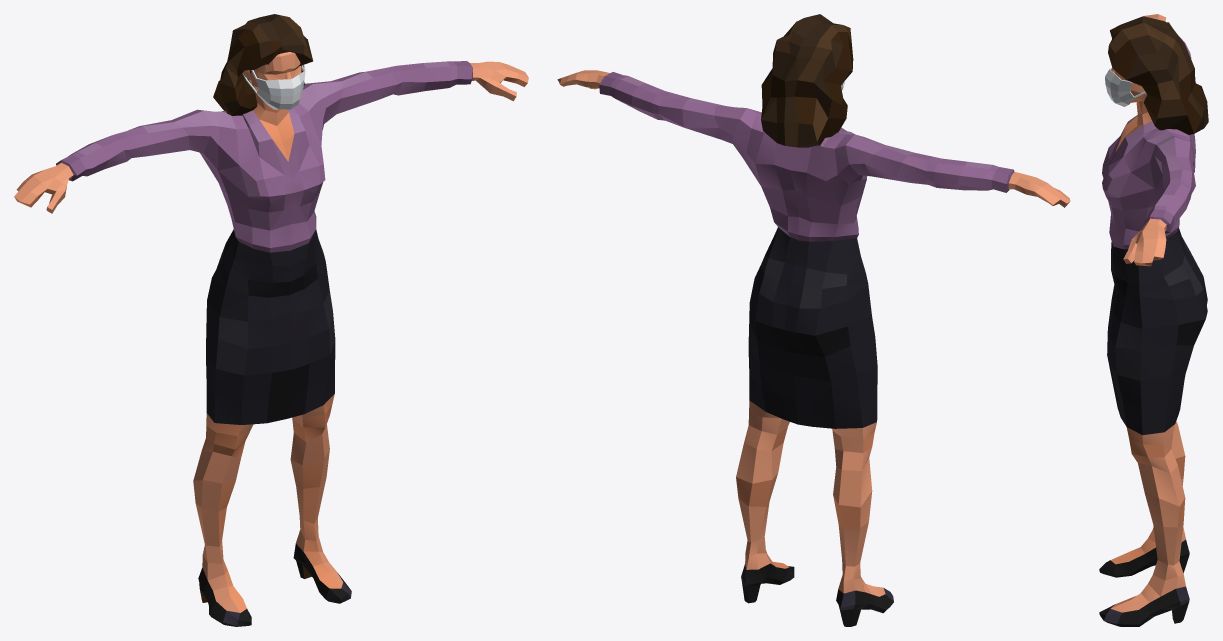
Rendered from office_Female_A-model.obj.
The picture shows the model from 3 angles, left to right: view 1: azimuth 30°, elevation 25°; view 2: azimuth 150°, elevation 25°; view 3: azimuth 270°, elevation 25°; orthographic projection.
Visible parts, largest first — view 1: office_Female_A, acc_hair_long, acc_mask_white; view 2: office_Female_A, acc_hair_long; view 3: office_Female_A, acc_hair_long, acc_mask_white.
Boxes of the visible parts, x1,y1,x2,y2 form: office_Female_A: [14, 52, 528, 626]; acc_hair_long: [213, 14, 312, 115]; acc_mask_white: [242, 64, 305, 109]; office_Female_A: [557, 70, 1070, 626]; acc_hair_long: [761, 14, 853, 147]; office_Female_A: [1099, 14, 1207, 626]; acc_hair_long: [1108, 16, 1208, 134]; acc_mask_white: [1105, 67, 1145, 106].
Size of the model in its own units: 153 by 167 by 28.7.
